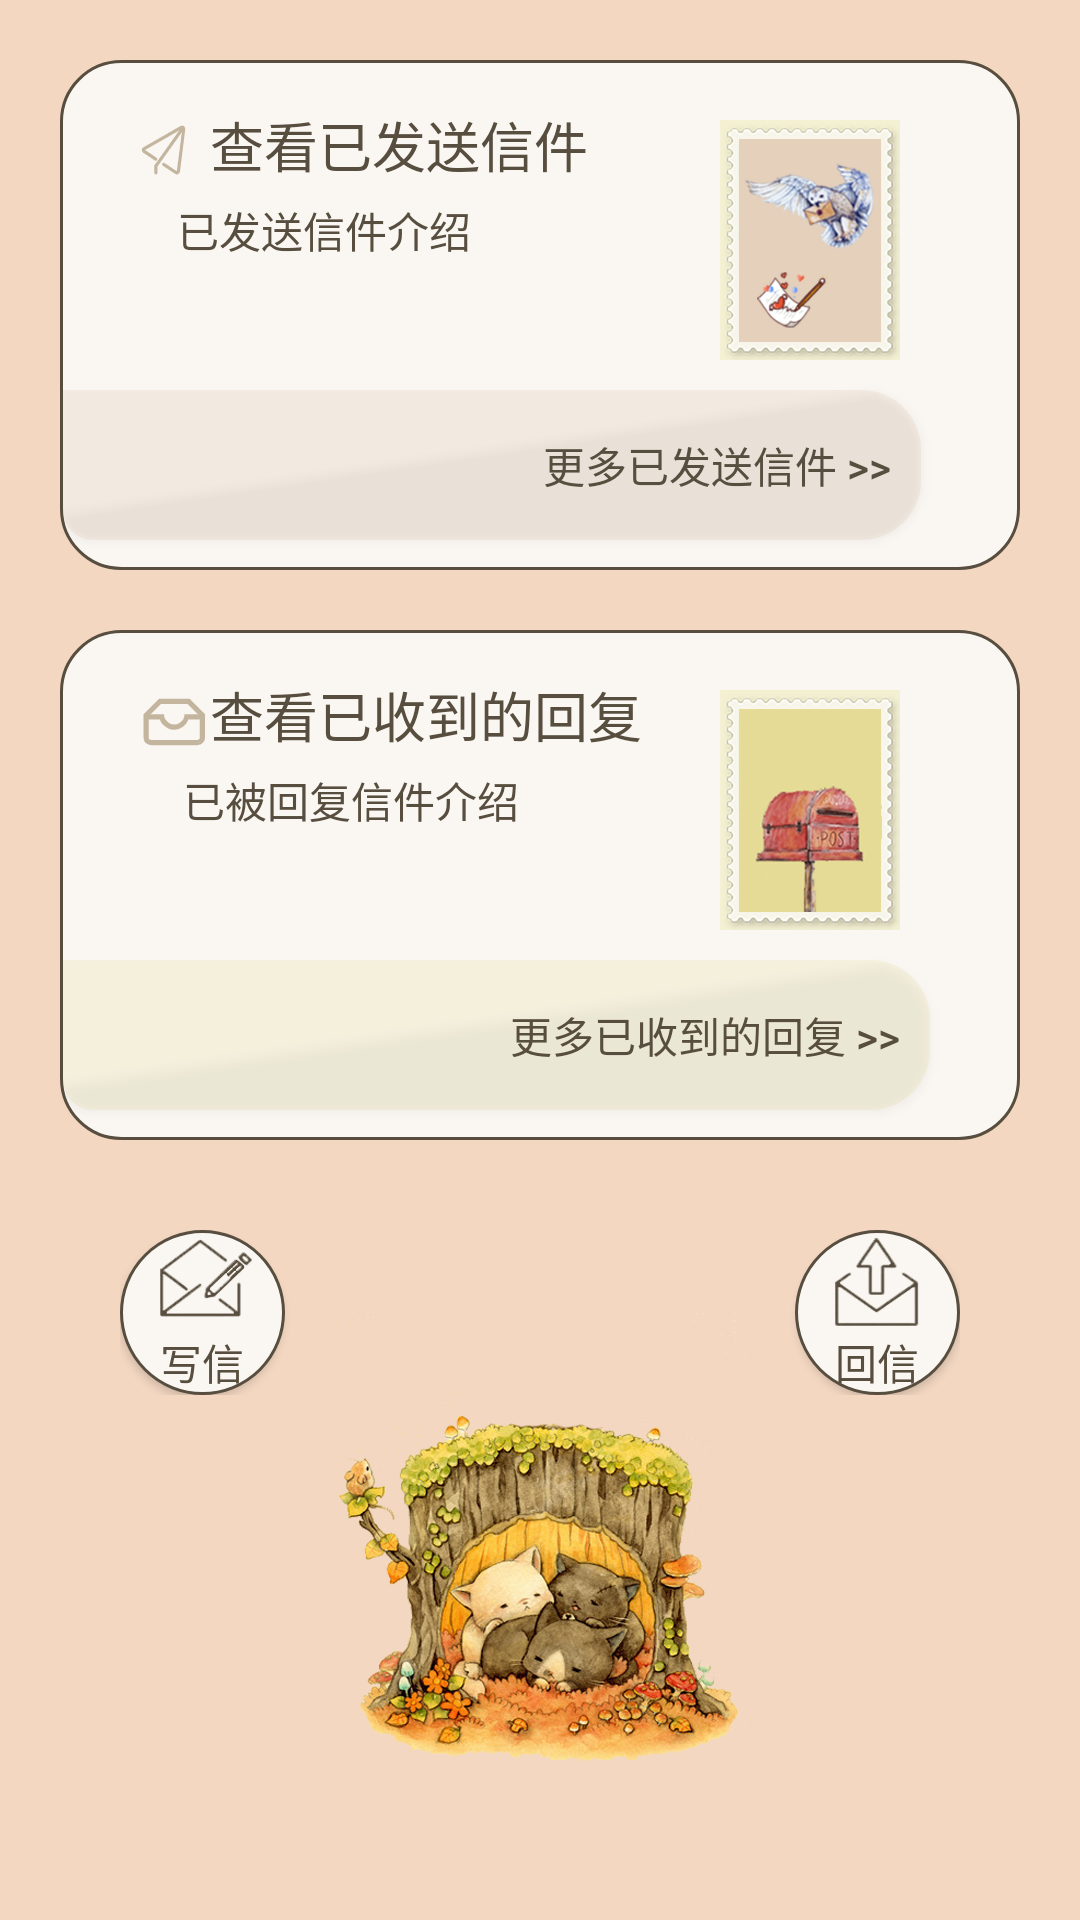

Named icons in this screenshot (1080*1920) and their centers, (x,y):
treehole iv receivemail: (810,810)
treehole iv sendmail: (810,240)
